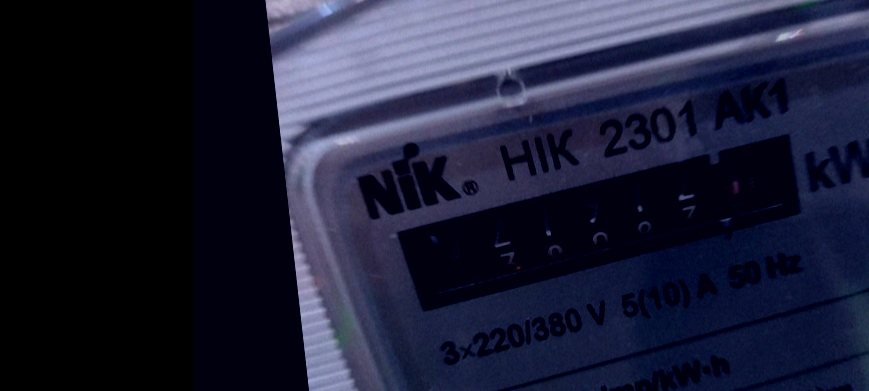0: (434, 223, 466, 262)
1: (721, 154, 748, 199)
2: (482, 208, 515, 250), (668, 163, 700, 203)
7: (622, 174, 652, 217), (531, 200, 558, 240)
9: (577, 188, 607, 225)
screen: (374, 121, 840, 324)
